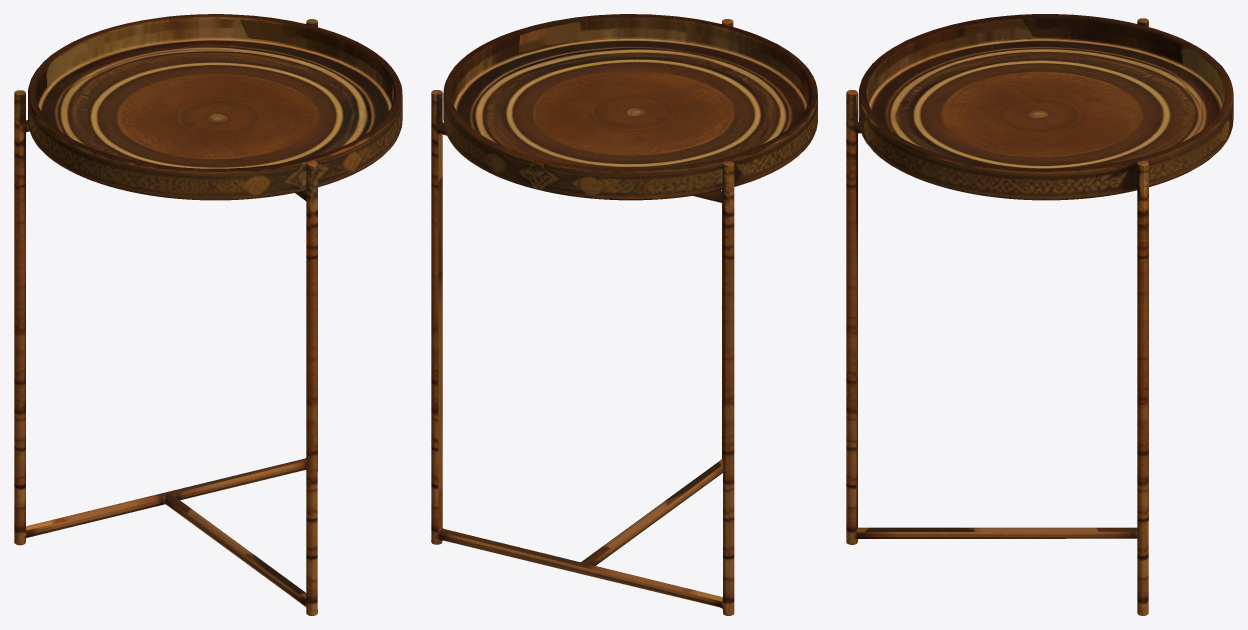
The model's file is edited_mesh.glb.
3 renders of one model, left to right at view 1: azimuth 30°, elevation 25°; view 2: azimuth 150°, elevation 25°; view 3: azimuth 270°, elevation 25°, orthographic.
Visible parts, largest first — view 1: normalized_model.obj; view 2: normalized_model.obj; view 3: normalized_model.obj.
Boxes of the visible parts, x1,y1,x2,y2 form: normalized_model.obj: (14,14,402,615); normalized_model.obj: (431,14,817,615); normalized_model.obj: (846,14,1233,615).
Bounding box in the file's own units: 1.09 × 1.44 × 1.12.
1 material, 1 textured.
